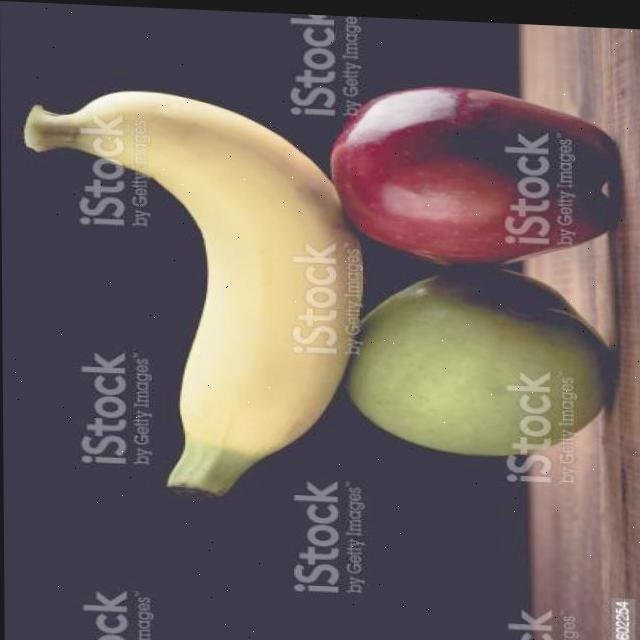banana: (17, 81, 373, 514)
